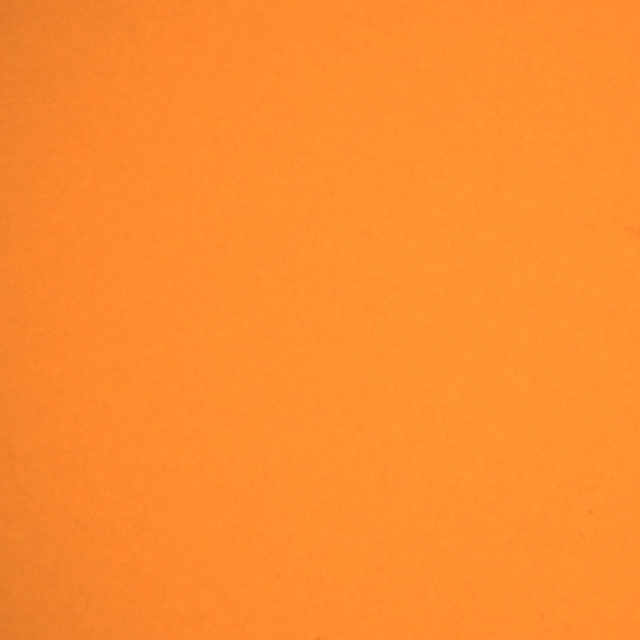sunspot: (586, 508, 595, 516)
